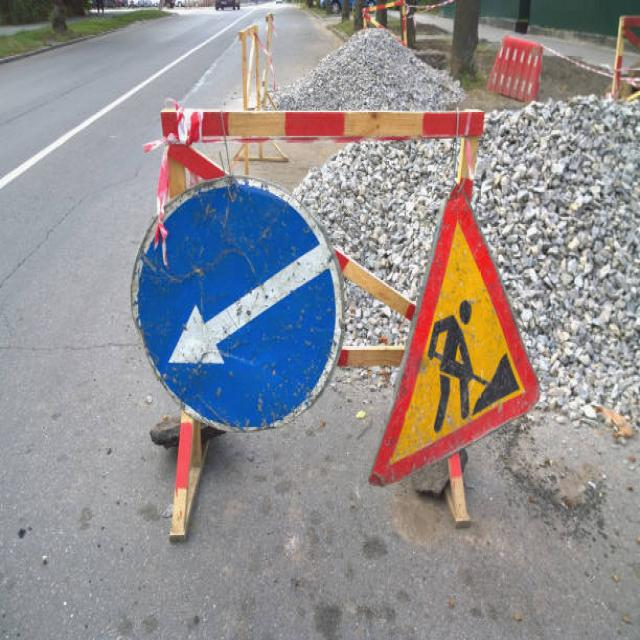road_work: (372, 184, 542, 496)
